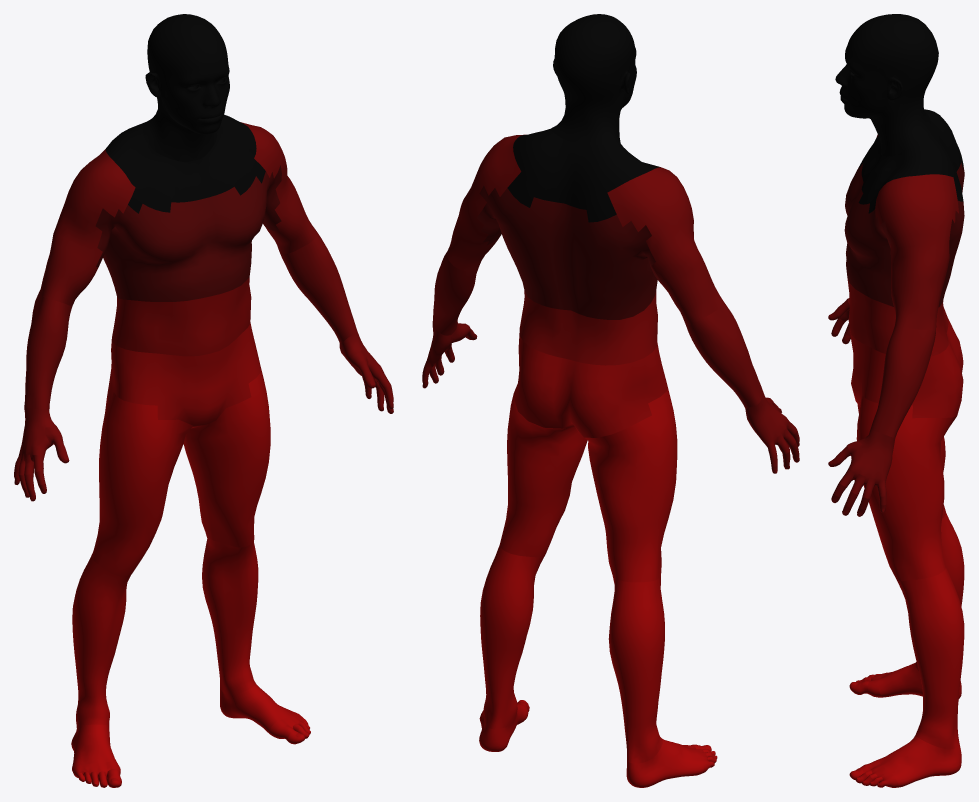
File: body_male.glb
The picture shows the model from 3 angles, left to right: view 1: azimuth 30°, elevation 25°; view 2: azimuth 150°, elevation 25°; view 3: azimuth 270°, elevation 25°; orthographic projection.
Visible parts, largest first — view 1: GEO-body_male_realistic; view 2: GEO-body_male_realistic; view 3: GEO-body_male_realistic.
Part boxes in pixels (box(x1,y1,x2,y2)): GEO-body_male_realistic: box(14, 14, 393, 787); GEO-body_male_realistic: box(422, 14, 799, 787); GEO-body_male_realistic: box(828, 14, 964, 787).
Size of the model in its own units: 0.8807 by 1.69 by 0.2904.
